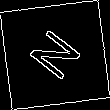N_SE: (23, 24, 87, 86)
